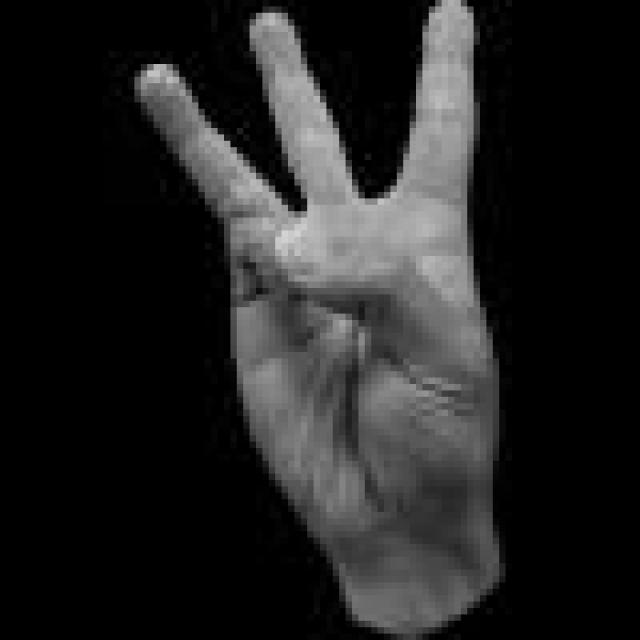W: (122, 0, 512, 563)
